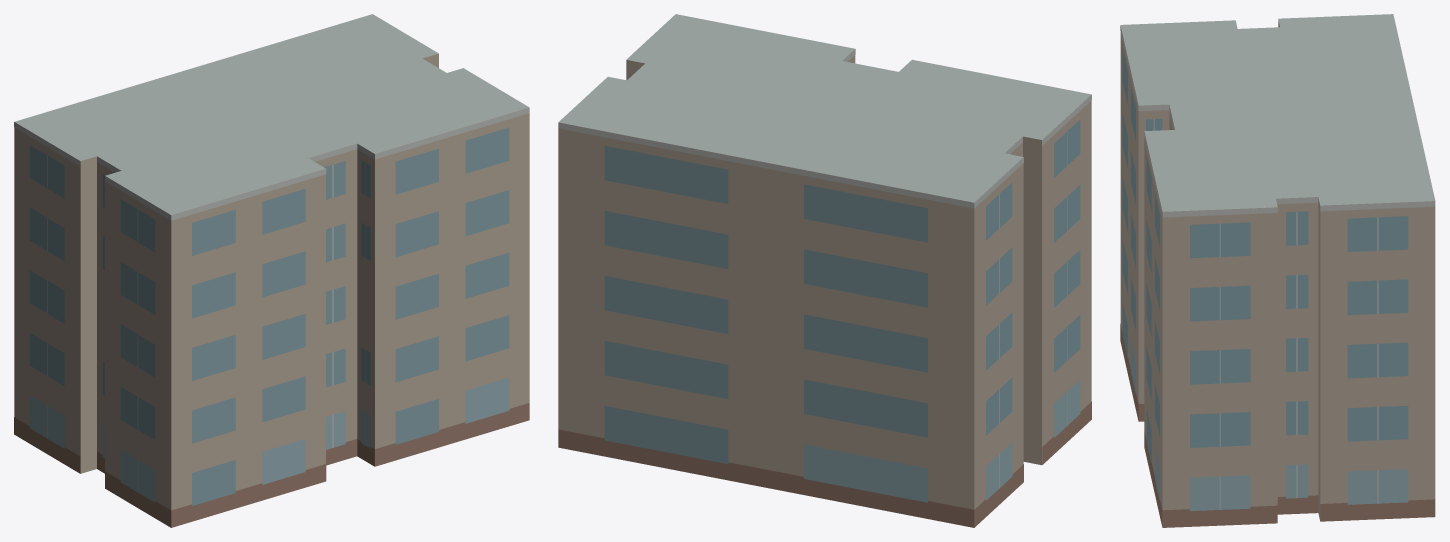
Rendered from survey-upis-32725704.glb.
3 renders of one model, left to right at view 1: azimuth 30°, elevation 25°; view 2: azimuth 150°, elevation 25°; view 3: azimuth 270°, elevation 25°, orthographic. The views are drawn at different scales.
Visible parts, largest first — view 1: survey-upis-32725704.tmp; view 2: survey-upis-32725704.tmp; view 3: survey-upis-32725704.tmp.
Boxes of the visible parts, x1,y1,x2,y2 form: survey-upis-32725704.tmp: [14, 14, 529, 527]; survey-upis-32725704.tmp: [558, 14, 1091, 527]; survey-upis-32725704.tmp: [1120, 14, 1435, 527].
Size of the model in its own units: 18.28 by 13.6 by 12.3.
